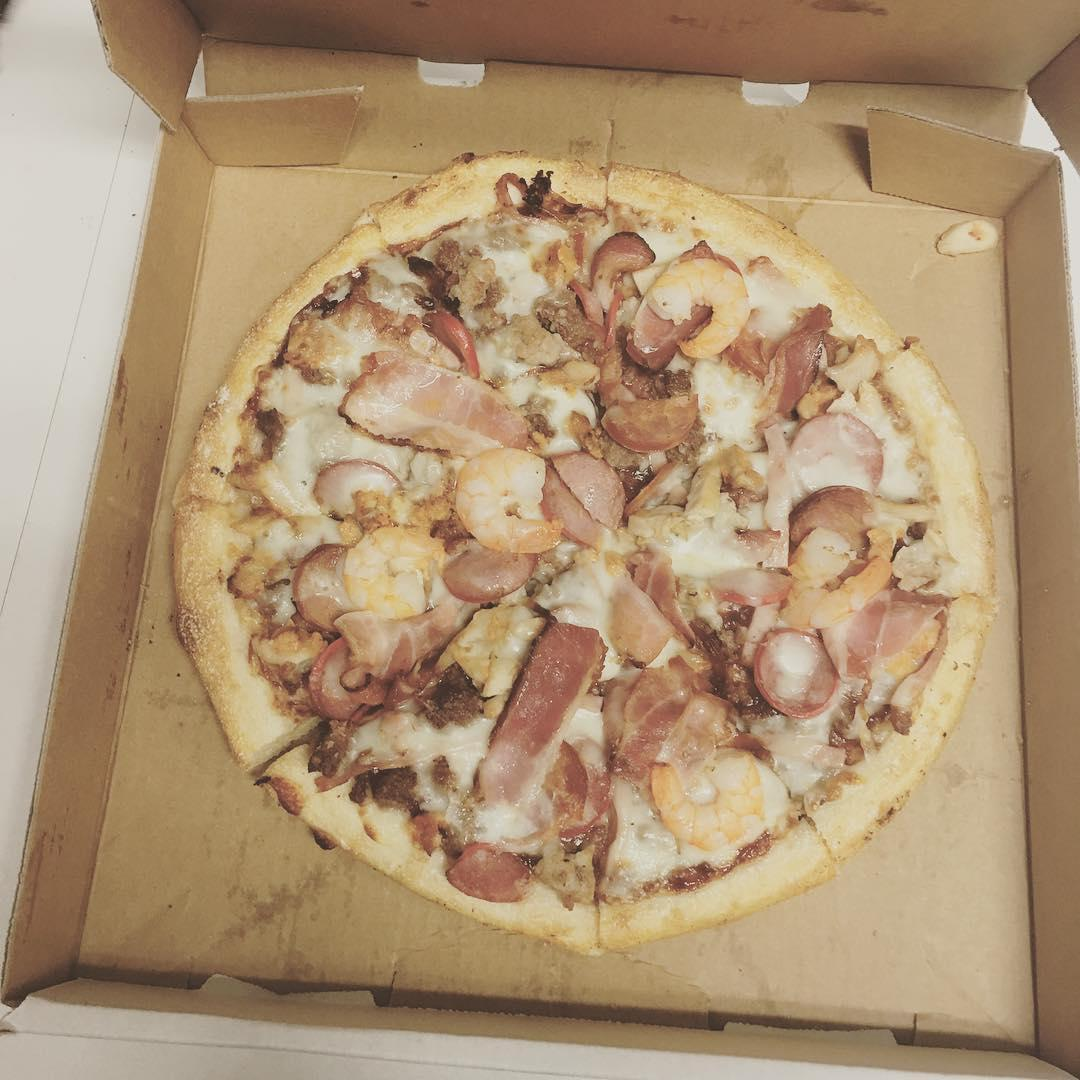Bacon: (457, 621, 601, 821), (345, 355, 528, 462), (625, 235, 728, 368), (849, 581, 954, 690), (615, 667, 698, 777), (337, 607, 481, 670), (755, 309, 828, 424), (451, 839, 538, 905), (579, 229, 649, 309), (631, 545, 692, 636)
Ham: (537, 453, 634, 538), (595, 387, 706, 460), (785, 493, 872, 581), (753, 629, 840, 714), (791, 415, 889, 489), (307, 457, 405, 517), (441, 541, 550, 593), (309, 643, 389, 710), (293, 543, 358, 625), (645, 457, 701, 517)
Pizza: (173, 151, 990, 965)
